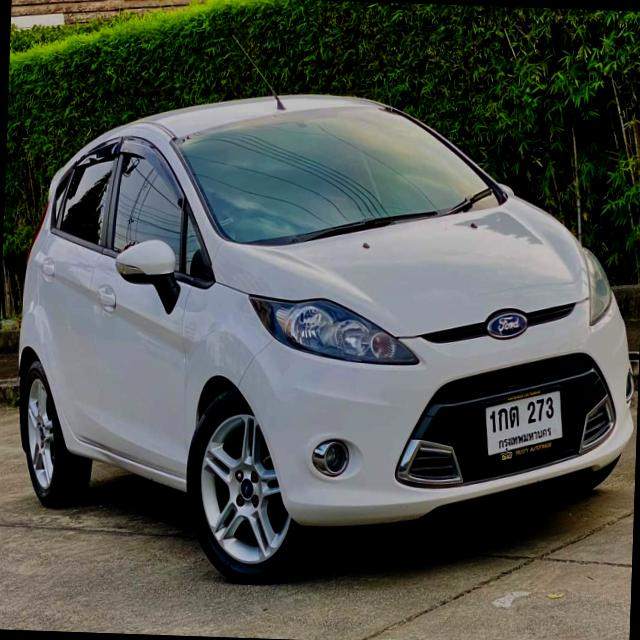license_plate: (482, 380, 568, 464)
